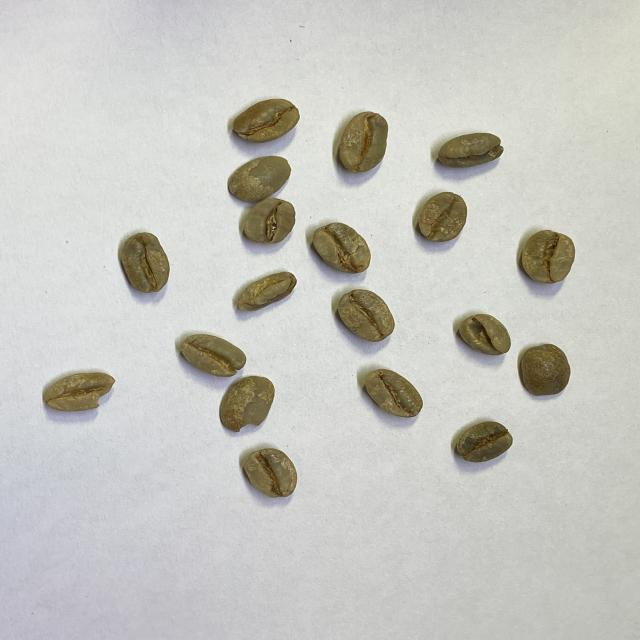bad: (219, 376, 275, 434), (45, 372, 115, 411), (245, 448, 298, 498), (243, 197, 296, 245), (236, 271, 298, 312), (456, 422, 514, 464)
good: (120, 230, 170, 294), (232, 98, 301, 144), (338, 111, 388, 174), (312, 222, 372, 274), (521, 230, 577, 285), (338, 288, 395, 342), (181, 333, 247, 378), (364, 368, 423, 418), (227, 156, 291, 202), (519, 343, 571, 397), (439, 132, 504, 169), (418, 192, 466, 242), (458, 314, 511, 356)
